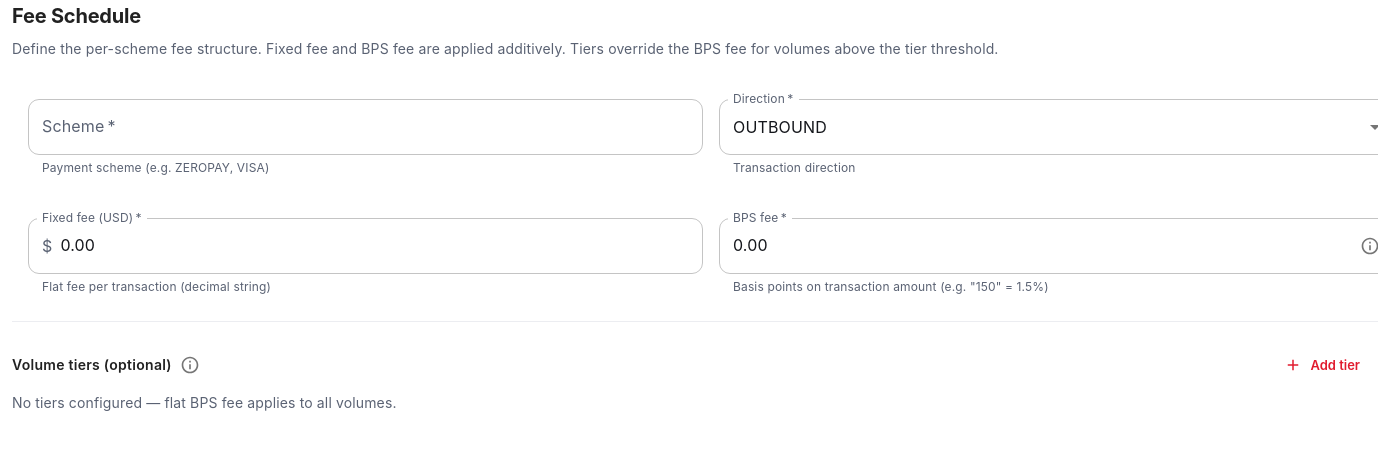
Test: FeeScheduleSection › appends a tier row when "Add tier" is clicked
Click the button with aria-label "add-fee-tier" at (1323, 365), box [1268, 346, 1378, 385]
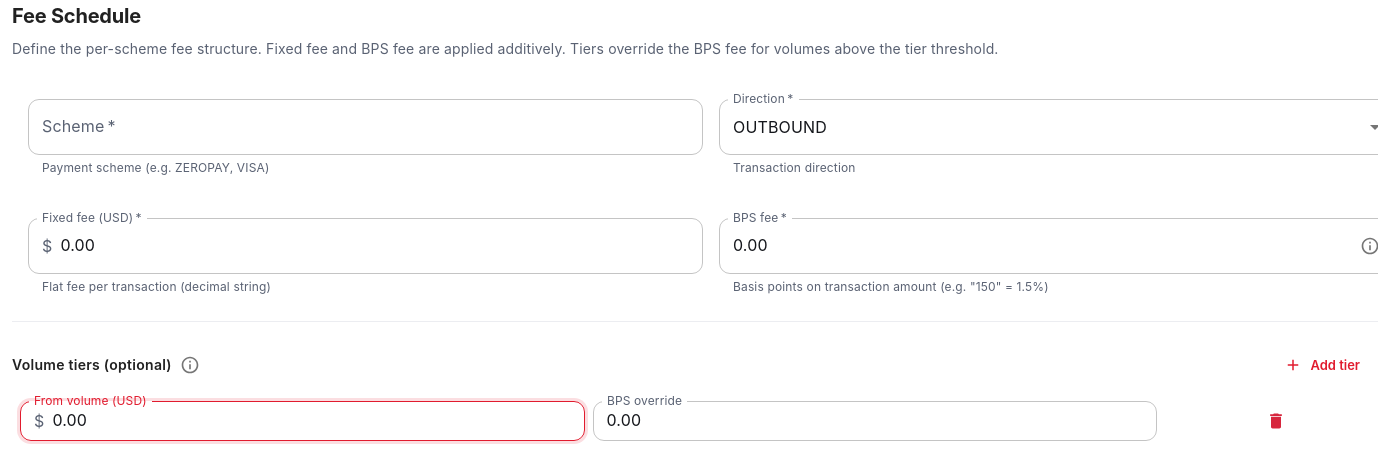
Check: the field named "feeSchedule.tiers.0.fromVolumeUsd" is shown, box [52, 401, 584, 441]
Check: the field named "feeSchedule.tiers.0.bpsOverride" is shown, box [592, 401, 1157, 441]
